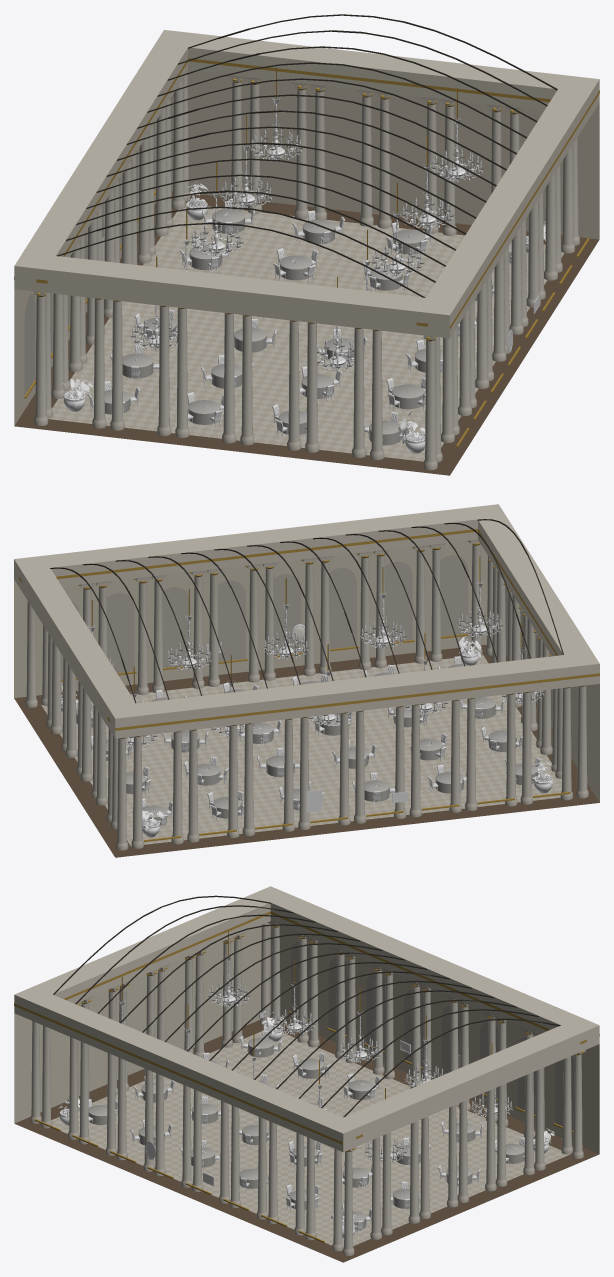
The model's file is palace_int.glb.
The picture shows the model from 3 angles, top to bottom: view 1: azimuth 30°, elevation 25°; view 2: azimuth 150°, elevation 25°; view 3: azimuth 270°, elevation 25°; orthographic projection. The views are drawn at different scales.
Parts seen in each view (by area): view 1: I_x_marble_white, I_x_plaster, I_metal, I_x_velvet, I_p_Chandelier_03__0, I_p_dining_chair_02__0, I_x_gold, I_chrome, I_crystal, I_p_potted_plant_02__0, I_p_potted_plant_02__1; view 2: I_x_marble_white, I_x_plaster, I_chrome, I_x_velvet, I_x_gold, I_metal, I_p_dining_chair_02__0, I_p_Chandelier_03__0, I_crystal, I_p_potted_plant_02__1, I_p_potted_plant_02__0; view 3: I_x_marble_white, I_x_plaster, I_metal, I_chrome, I_x_velvet, I_x_gold, I_p_dining_chair_02__0, I_p_Chandelier_03__0, I_crystal, I_p_potted_plant_02__1.
Part boxes in pixels (left/top/right/bottom): I_x_marble_white: left=14, top=71, right=599, bottom=475; I_x_plaster: left=14, top=30, right=599, bottom=425; I_metal: left=56, top=14, right=557, bottom=297; I_x_velvet: left=104, top=209, right=511, bottom=445; I_p_Chandelier_03__0: left=131, top=98, right=482, bottom=371; I_p_dining_chair_02__0: left=87, top=200, right=511, bottom=442; I_x_gold: left=14, top=58, right=599, bottom=447; I_chrome: left=24, top=123, right=155, bottom=395; I_crystal: left=102, top=135, right=483, bottom=368; I_p_potted_plant_02__0: left=63, top=200, right=543, bottom=453; I_p_potted_plant_02__1: left=61, top=182, right=545, bottom=443; I_x_marble_white: left=14, top=539, right=599, bottom=857; I_x_plaster: left=14, top=504, right=599, bottom=802; I_chrome: left=60, top=555, right=468, bottom=679; I_x_velvet: left=76, top=664, right=537, bottom=826; I_x_gold: left=19, top=529, right=599, bottom=841; I_metal: left=50, top=519, right=563, bottom=703; I_p_dining_chair_02__0: left=91, top=656, right=542, bottom=829; I_p_Chandelier_03__0: left=88, top=582, right=544, bottom=747; I_crystal: left=115, top=615, right=545, bottom=745; I_p_potted_plant_02__1: left=61, top=636, right=552, bottom=832; I_p_potted_plant_02__0: left=61, top=649, right=552, bottom=837; I_x_marble_white: left=14, top=921, right=599, bottom=1262; I_x_plaster: left=14, top=886, right=599, bottom=1153; I_metal: left=53, top=895, right=560, bottom=1117; I_chrome: left=291, top=941, right=574, bottom=1130; I_x_velvet: left=88, top=1037, right=524, bottom=1231; I_x_gold: left=14, top=911, right=599, bottom=1242; I_p_dining_chair_02__0: left=88, top=1030, right=524, bottom=1233; I_p_Chandelier_03__0: left=119, top=956, right=512, bottom=1163; I_crystal: left=207, top=986, right=513, bottom=1160; I_p_potted_plant_02__1: left=57, top=1011, right=554, bottom=1231.
Bounding box in the file's own units: 42.81 × 13.8 × 42.81.
